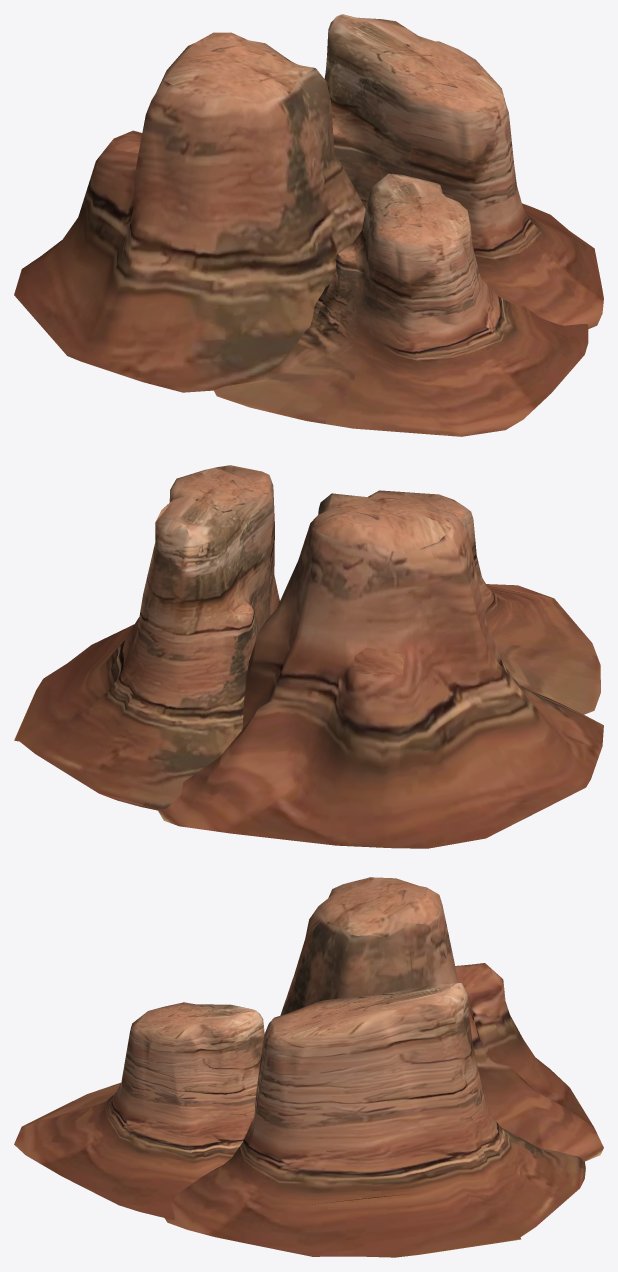
File: desert_mesa.glb
3 renders of one model, top to bottom at view 1: azimuth 30°, elevation 25°; view 2: azimuth 150°, elevation 25°; view 3: azimuth 270°, elevation 25°, orthographic. The views are drawn at different scales.
Parts seen in each view (by area): view 1: Material1; view 2: Material1; view 3: Material1.
Part boxes in pixels (box(x1,y1,x2,y2)): Material1: box(14, 14, 603, 436); Material1: box(14, 465, 603, 848); Material1: box(14, 877, 603, 1257).
Bounding box in the file's own units: 10.79 × 5 × 11.95.
Materials: 1 (1 with a texture image).
